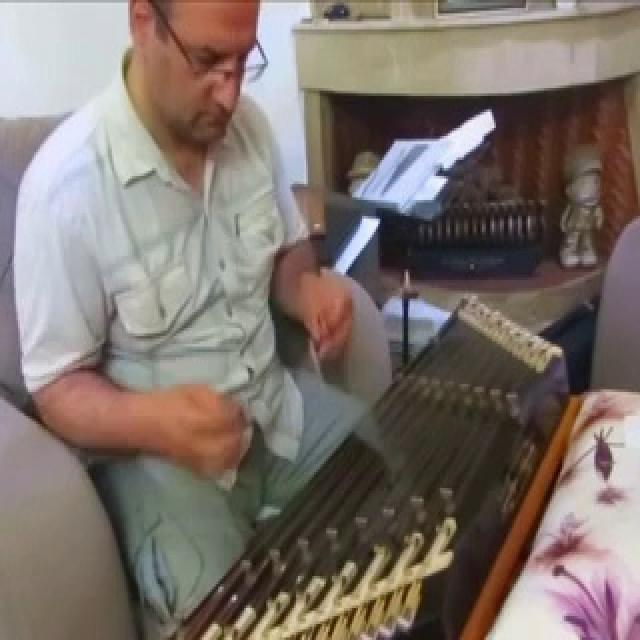Santur: (143, 273, 596, 639)
